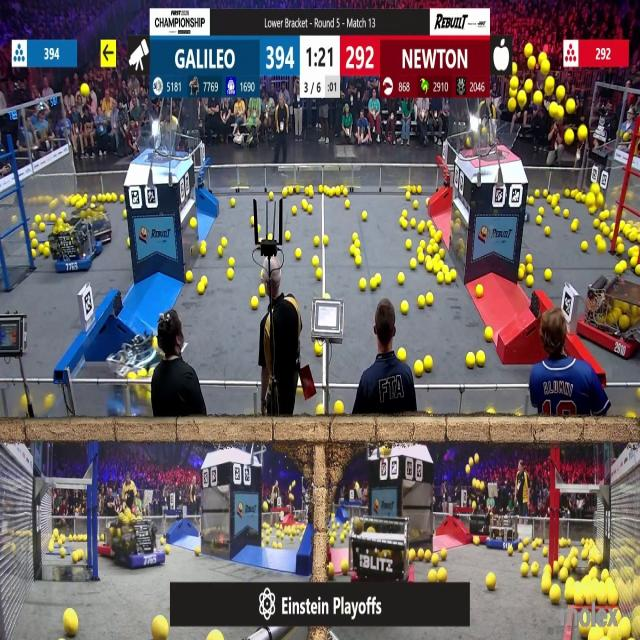ball_airborne: (154, 617, 170, 640), (565, 100, 575, 114), (565, 130, 574, 145), (577, 127, 586, 141), (556, 87, 565, 101), (518, 92, 526, 107), (533, 92, 542, 105), (555, 105, 564, 118), (510, 98, 518, 112), (540, 61, 548, 75), (80, 86, 89, 98), (525, 43, 533, 56), (511, 76, 519, 88), (525, 80, 533, 92), (528, 58, 536, 70), (598, 242, 606, 253), (597, 193, 604, 205), (545, 77, 553, 87), (592, 183, 599, 193), (513, 64, 519, 75), (465, 138, 471, 148), (511, 90, 518, 98), (472, 480, 477, 489), (624, 134, 629, 143), (474, 454, 478, 464), (481, 482, 485, 491), (482, 128, 487, 135), (471, 501, 475, 509), (466, 465, 470, 473)
ball_ground: (65, 611, 78, 637), (550, 586, 562, 604), (486, 572, 496, 590), (414, 360, 424, 376), (438, 568, 448, 581), (466, 352, 474, 368), (477, 352, 486, 366), (336, 403, 345, 416), (44, 395, 53, 408), (424, 356, 432, 370), (485, 327, 493, 341), (522, 563, 530, 577), (397, 348, 405, 361), (560, 568, 568, 581), (540, 581, 548, 594), (617, 264, 626, 275), (400, 302, 408, 314), (210, 632, 222, 640), (315, 344, 322, 357), (316, 407, 324, 418), (428, 570, 436, 581), (426, 292, 433, 304), (258, 284, 265, 296), (419, 294, 426, 306), (251, 296, 258, 308), (531, 562, 538, 574), (342, 560, 349, 572), (431, 554, 438, 566), (618, 244, 626, 254), (418, 222, 426, 232), (72, 552, 80, 562), (630, 256, 638, 266), (185, 272, 192, 283), (526, 276, 533, 287), (411, 260, 418, 271), (369, 279, 376, 290), (434, 232, 441, 243), (544, 270, 550, 282), (360, 279, 366, 291), (355, 254, 361, 266), (475, 285, 481, 297), (376, 274, 382, 286), (420, 551, 426, 563), (316, 270, 323, 280), (571, 220, 578, 230), (198, 284, 205, 294), (426, 264, 433, 274), (227, 256, 234, 266), (284, 232, 291, 242), (441, 550, 448, 560), (436, 274, 443, 284), (518, 270, 525, 280), (602, 225, 609, 235), (226, 269, 232, 280), (397, 274, 403, 285), (189, 217, 195, 228), (433, 263, 439, 274), (542, 565, 550, 573), (526, 266, 533, 275), (353, 247, 360, 256), (306, 188, 313, 197), (313, 256, 319, 266), (295, 248, 300, 260), (194, 544, 200, 554), (322, 236, 328, 246), (583, 242, 589, 252), (61, 549, 67, 559), (571, 558, 577, 568), (411, 218, 417, 228), (399, 218, 405, 228), (440, 248, 446, 258), (328, 563, 333, 575), (303, 202, 309, 212), (552, 197, 558, 207), (554, 562, 560, 572), (523, 554, 530, 562), (564, 188, 571, 196), (425, 254, 432, 262), (444, 266, 451, 274), (452, 271, 457, 282), (635, 266, 640, 277), (473, 536, 479, 545), (314, 237, 320, 246), (543, 226, 549, 235), (407, 241, 413, 250), (419, 254, 425, 263), (43, 248, 49, 257), (594, 219, 600, 228), (526, 254, 532, 263), (608, 231, 614, 240), (524, 537, 530, 546), (218, 247, 223, 257), (201, 246, 206, 256), (507, 545, 512, 555), (542, 548, 547, 558), (488, 409, 495, 416), (308, 206, 314, 214), (361, 212, 367, 220), (420, 240, 426, 248), (32, 240, 38, 248), (352, 234, 358, 242), (354, 240, 360, 248), (269, 191, 275, 199), (221, 239, 227, 247), (518, 543, 524, 551), (282, 189, 288, 197), (427, 246, 433, 254), (202, 277, 208, 285), (534, 189, 540, 197), (413, 201, 419, 209), (165, 544, 171, 552), (127, 240, 133, 248), (636, 387, 640, 399), (589, 207, 595, 215), (30, 232, 36, 240), (49, 214, 55, 222), (564, 209, 569, 218), (250, 216, 255, 225), (32, 249, 37, 258), (264, 502, 269, 511), (432, 244, 437, 253), (555, 208, 561, 215), (596, 236, 602, 243), (417, 246, 423, 253), (536, 216, 541, 224), (230, 200, 235, 208), (529, 198, 534, 206), (269, 234, 274, 242), (401, 210, 406, 218), (327, 292, 332, 300), (40, 222, 45, 230), (417, 185, 422, 193), (546, 197, 551, 205), (542, 189, 547, 197), (48, 544, 53, 552), (292, 207, 296, 216), (427, 411, 433, 417), (538, 208, 543, 215), (532, 541, 537, 548), (617, 237, 622, 244), (122, 210, 126, 218), (346, 201, 350, 209), (408, 194, 412, 202), (342, 537, 346, 545), (162, 536, 166, 544), (344, 188, 348, 196), (93, 194, 97, 202), (112, 192, 116, 200), (330, 537, 334, 545), (119, 194, 123, 201), (257, 224, 260, 232), (202, 241, 206, 247), (274, 542, 278, 548), (426, 200, 428, 207)
goal: (130, 127, 189, 161), (466, 123, 520, 159)
robot_blue: (105, 514, 162, 570), (50, 216, 96, 274), (487, 516, 520, 550)
robot_red: (581, 274, 638, 357), (347, 520, 408, 586)
